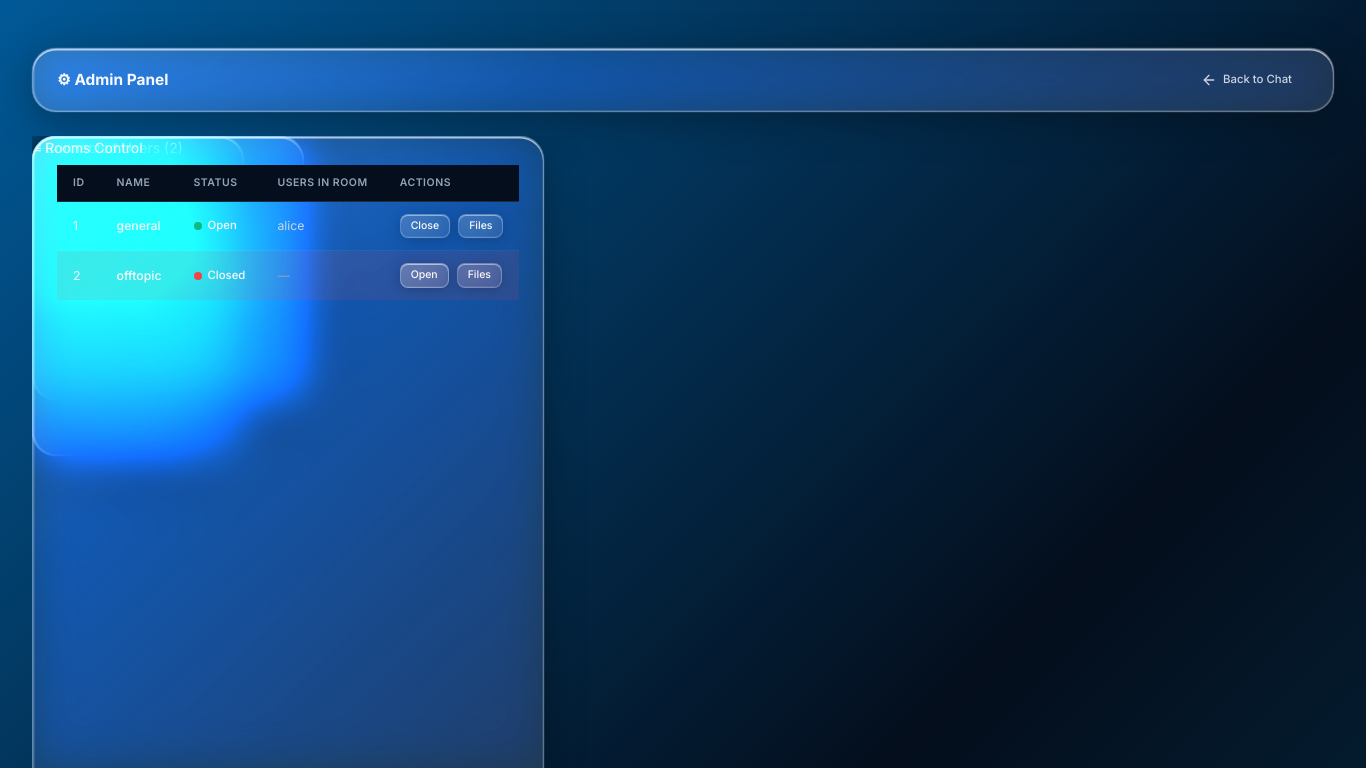
it: AdminPage › shows file list entries when room has files
Expected: the text "general" is shown, [100,202,178,252]
Click the button "Files" in the row of "general".
click(481, 226)  # box [458,214,504,238]
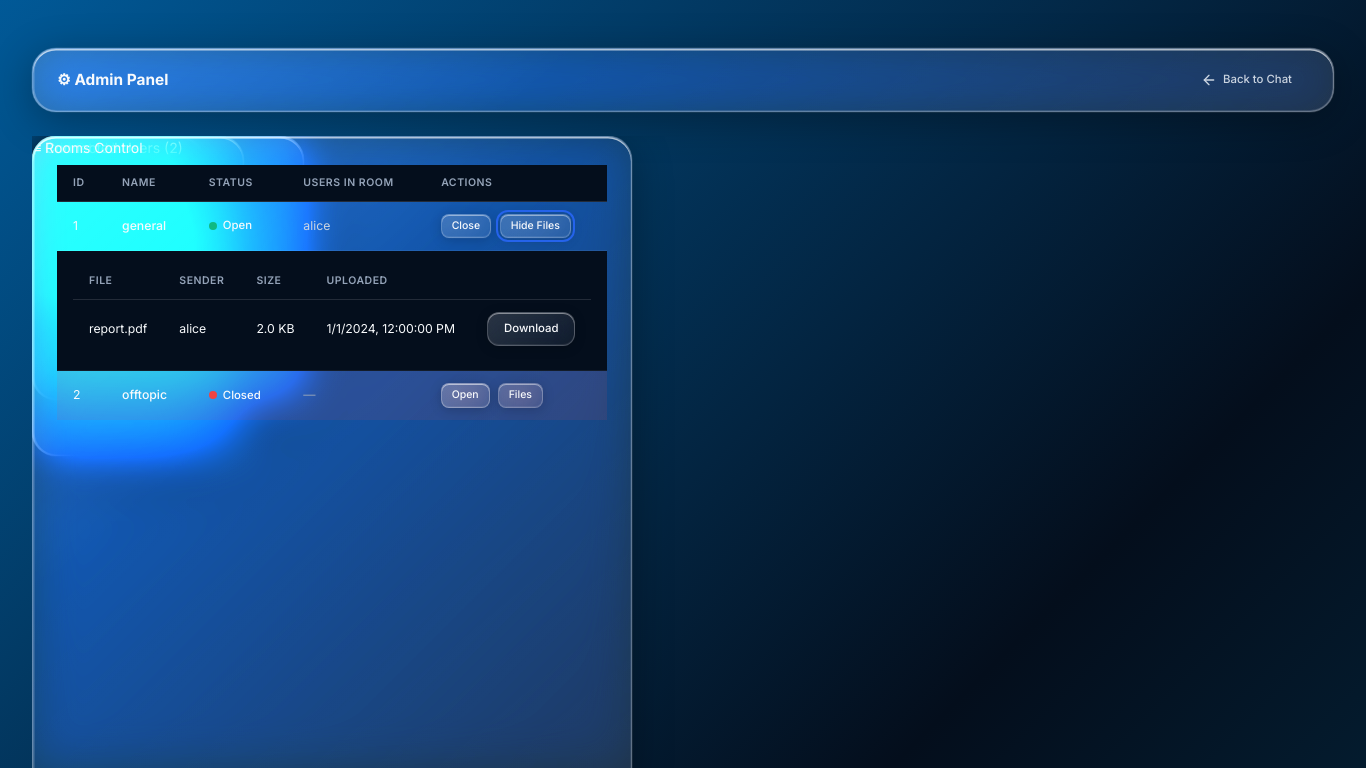
Now the text "report.pdf" is shown, box [73,300,163,358]
